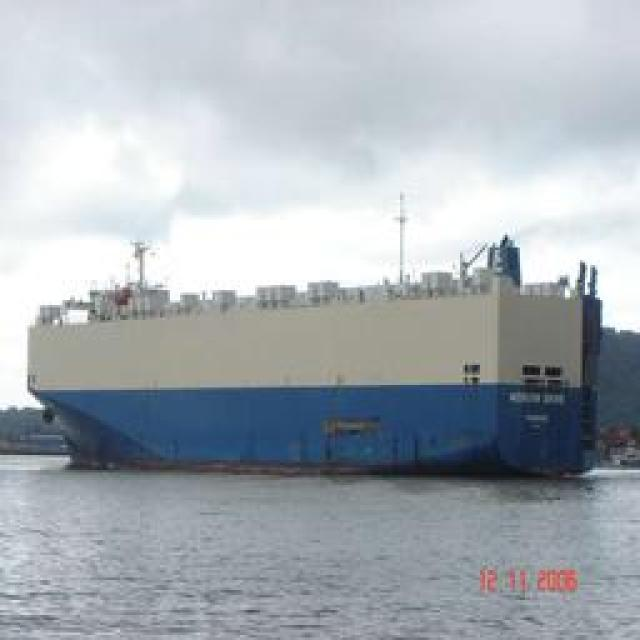CIV_Ship: (30, 239, 610, 479)
